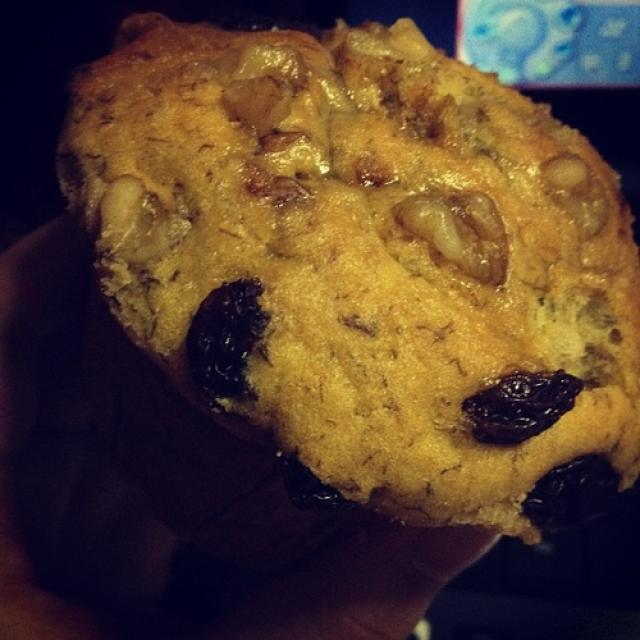炸货点心: (19, 13, 634, 628)
面包点心: (19, 13, 634, 628)
